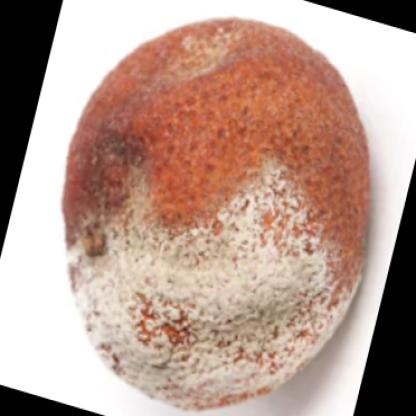rotten: (63, 18, 370, 411)
